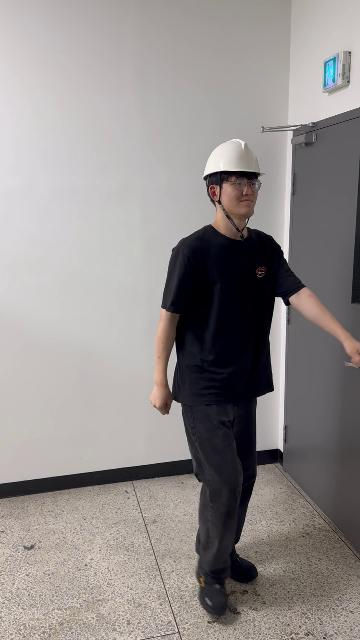helmet_worn: (201, 137, 268, 181)
shoe_worn: (198, 573, 227, 616), (229, 553, 258, 583)
vest_not_worn: (187, 229, 274, 398)
